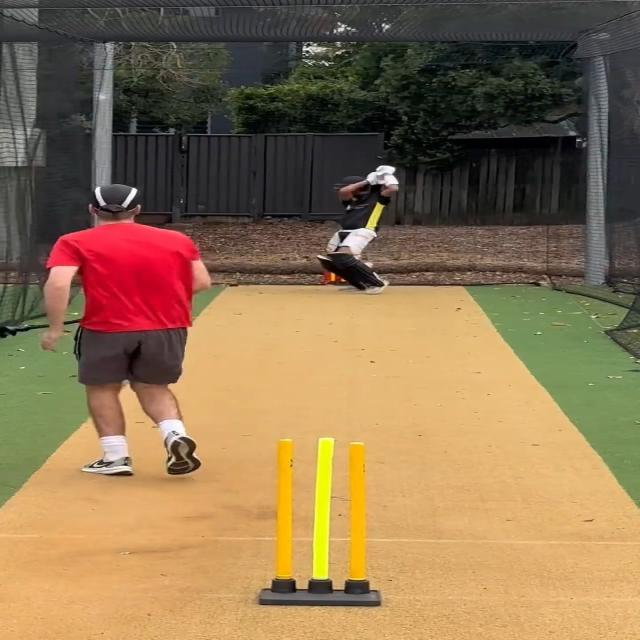stump: (262, 437, 382, 607)
